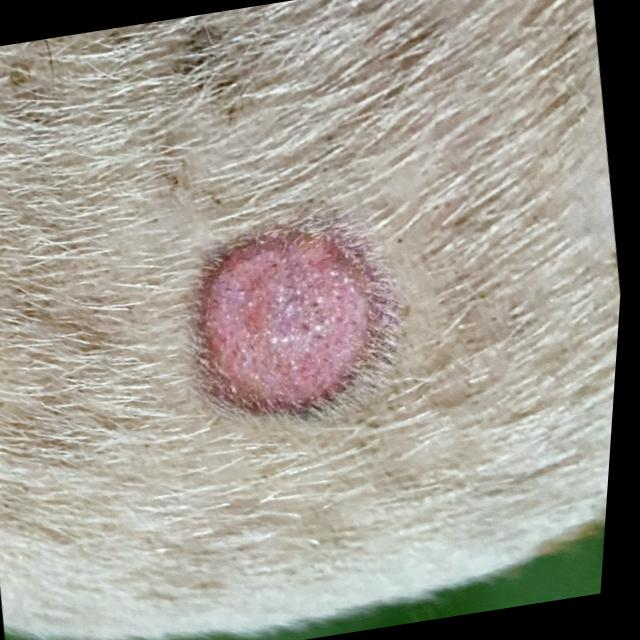ringworm: (174, 188, 396, 454)
